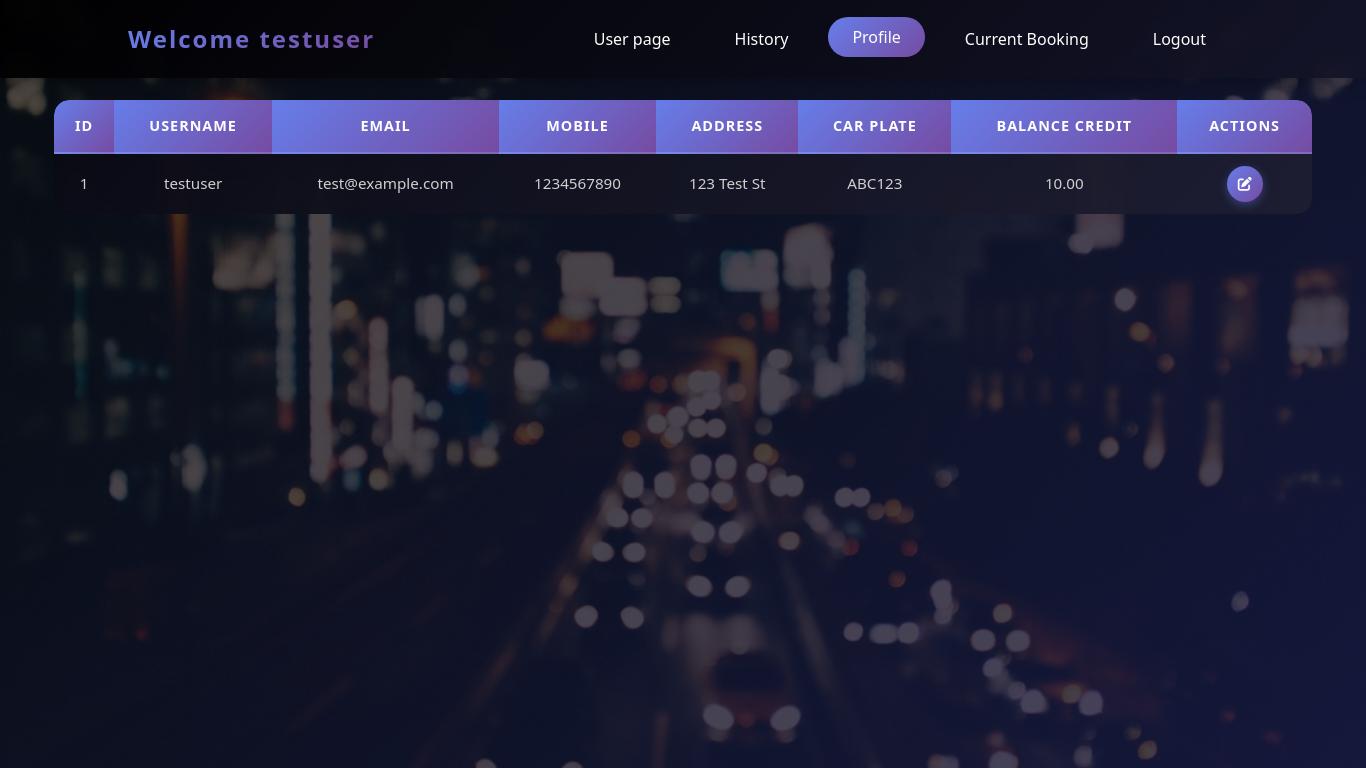
Test: UserProfile › should switch to edit mode when edit button is clicked
Click the button titled "Edit Profile" at (1245, 184), box [1227,166,1263,202]
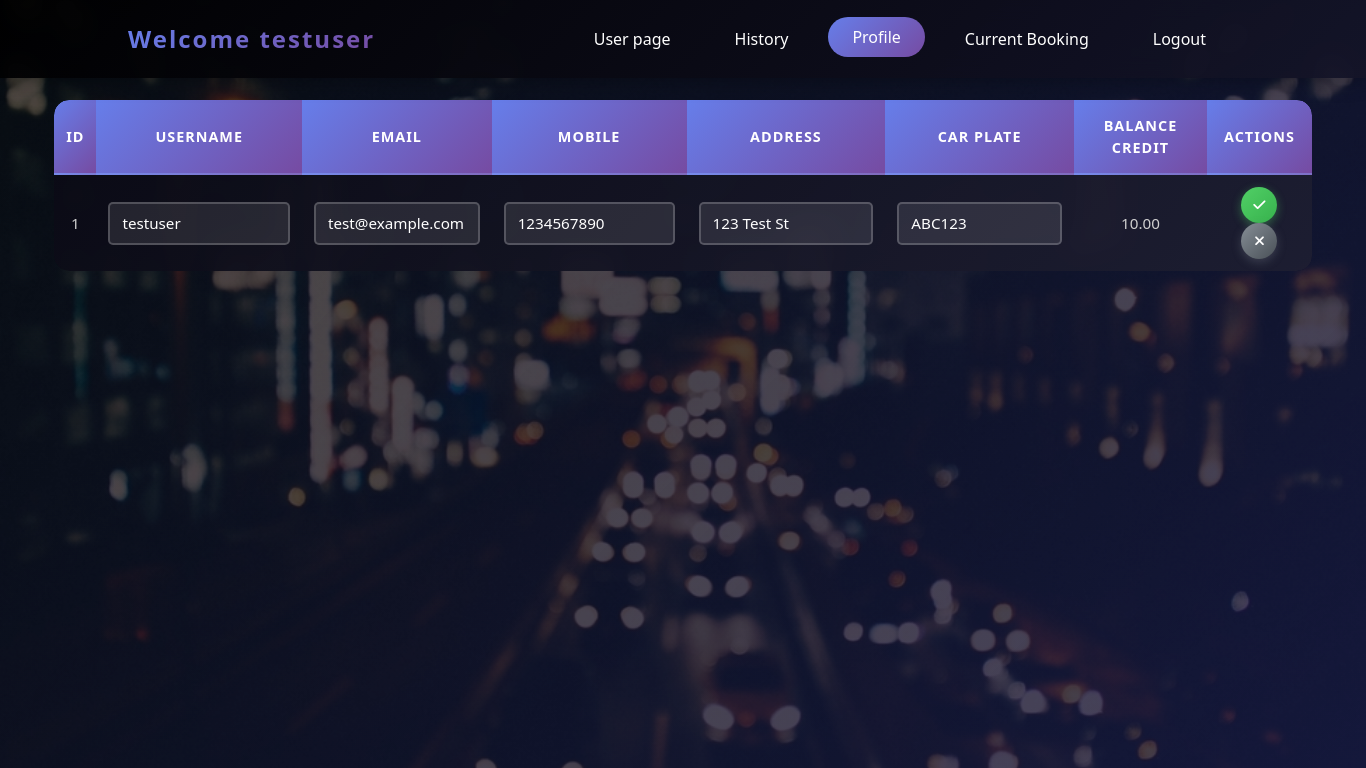
Check: the button titled "Save Changes" is shown, box [1242,187,1278,223]
Check: the button titled "Cancel" is shown, box [1242,223,1278,259]
